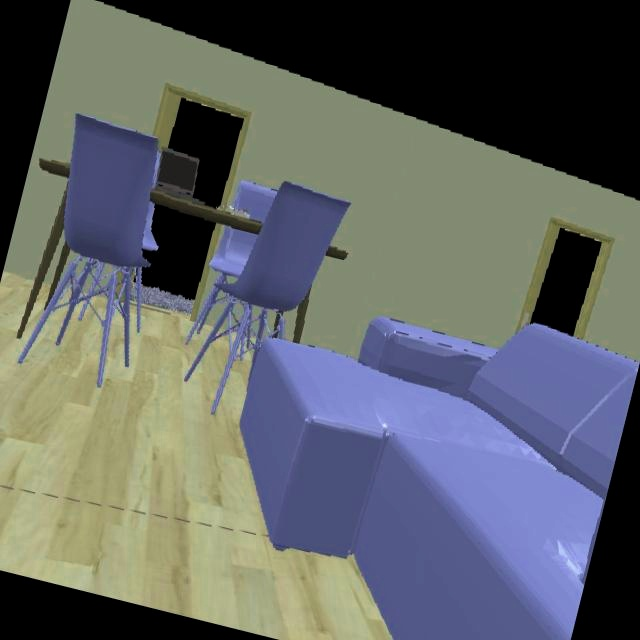chair: (208, 181, 350, 312), (63, 113, 159, 268)
laptop: (155, 147, 198, 197)
sofa: (239, 316, 639, 640)
table: (149, 189, 262, 235), (26, 189, 64, 307), (38, 161, 69, 179)
